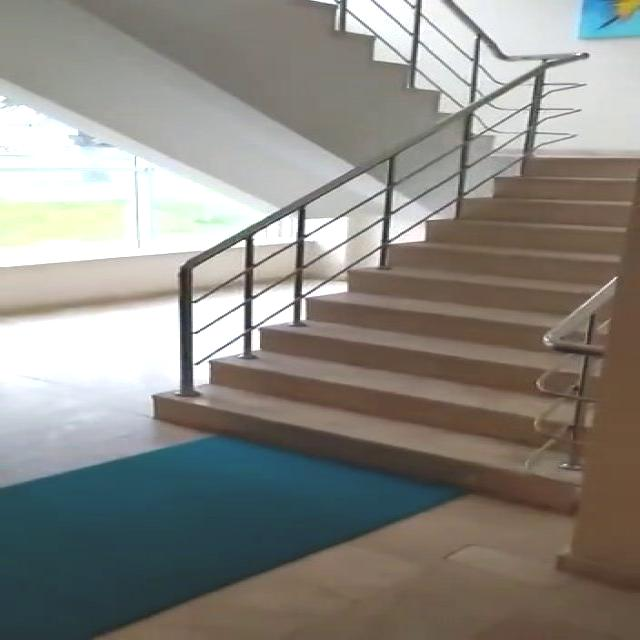stair: (141, 131, 640, 518)
